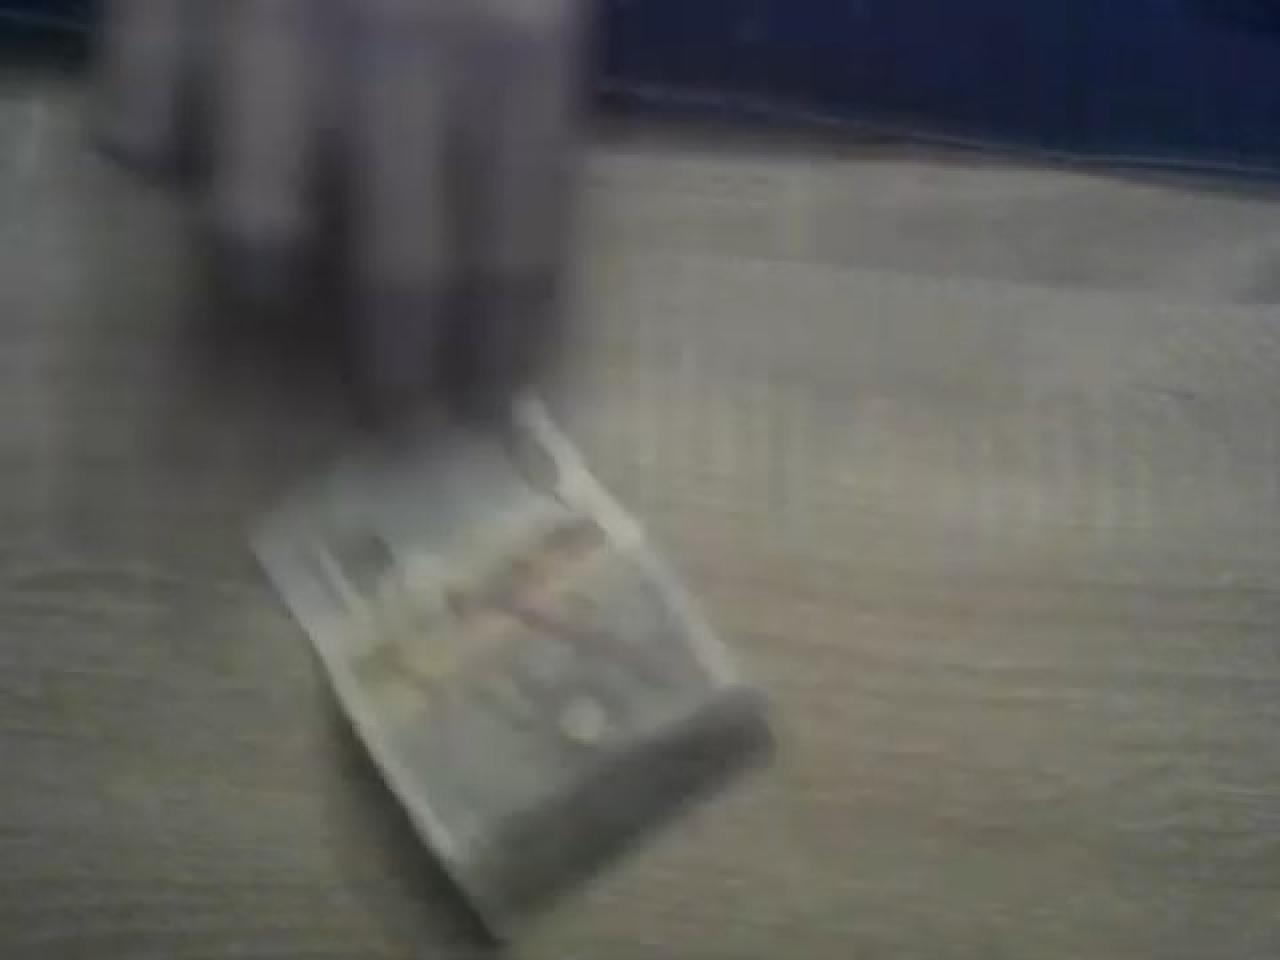10leva: (240, 394, 776, 960)
